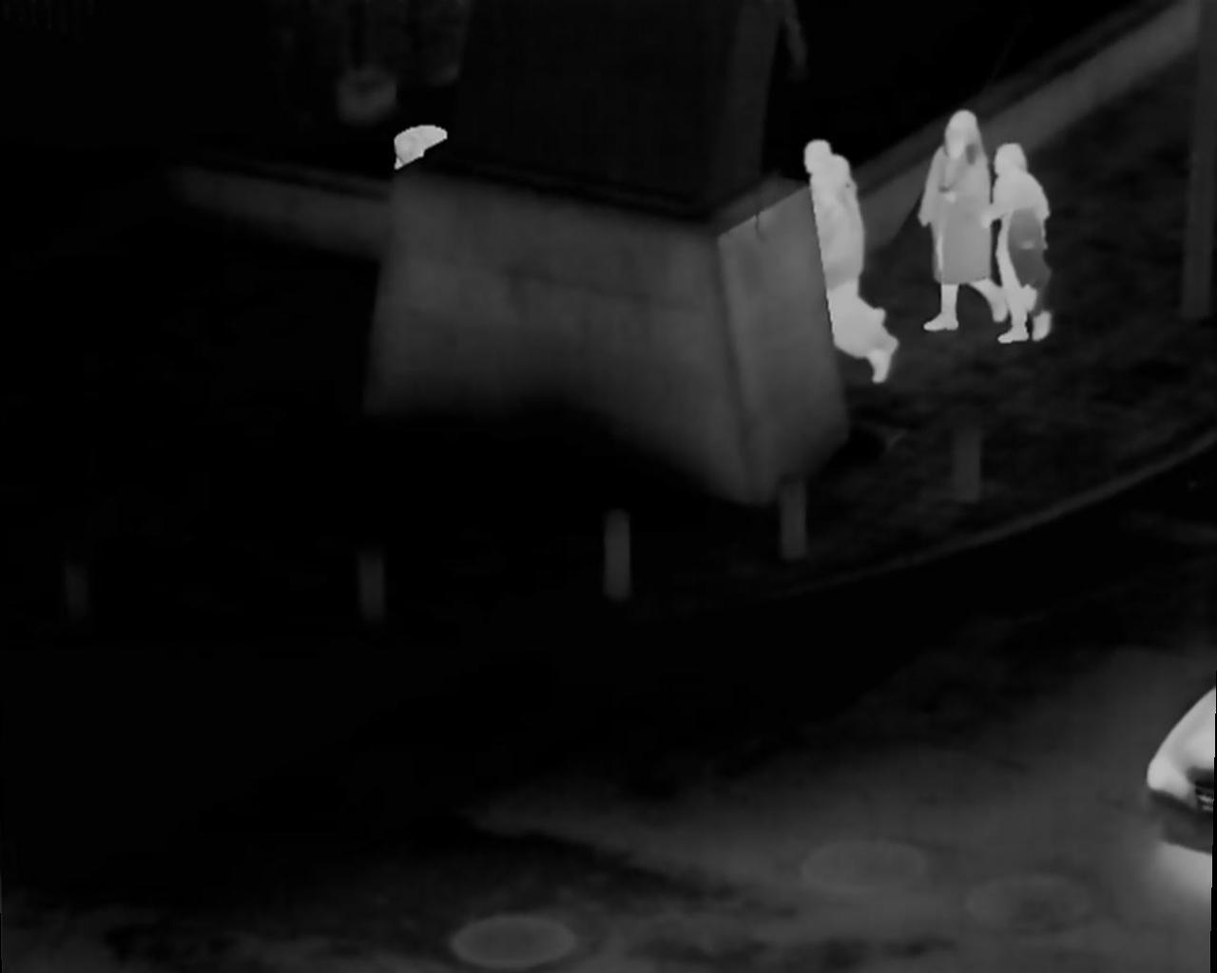person: (793, 143, 898, 383), (919, 105, 1002, 341), (978, 140, 1049, 348)
